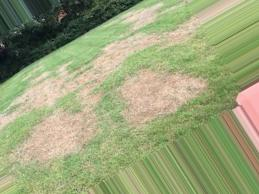patch: (34, 120, 103, 157), (123, 72, 183, 112), (99, 44, 129, 68), (132, 33, 187, 44), (31, 78, 73, 91), (17, 146, 45, 165), (57, 105, 88, 121), (22, 94, 57, 107), (128, 10, 144, 22), (4, 106, 16, 120)
